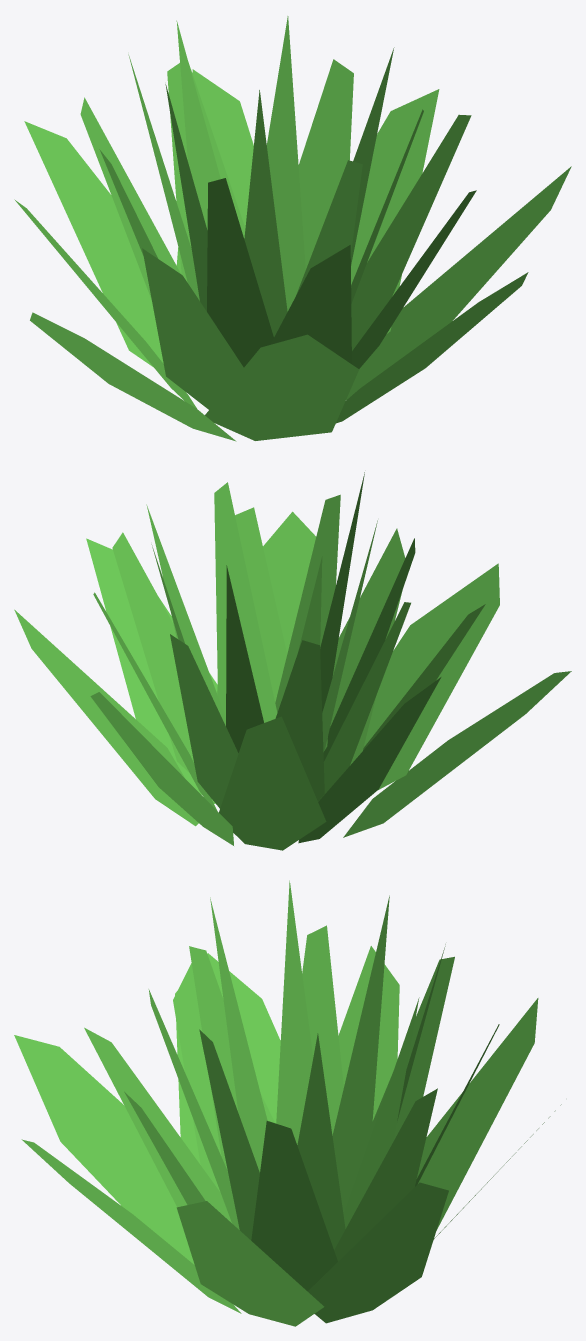
The model's file is GRASS PT2.glb.
3 views of the same model, one above another, from view 1: azimuth 30°, elevation 25°; view 2: azimuth 150°, elevation 25°; view 3: azimuth 270°, elevation 25° (orthographic). The views are drawn at different scales.
Parts seen in each view (by area): view 1: grass; view 2: grass; view 3: grass.
Boxes of the visible parts, left/top/right/bottom form: grass: left=14, top=16, right=571, bottom=441; grass: left=14, top=472, right=571, bottom=850; grass: left=14, top=880, right=561, bottom=1326.
Size of the model in its own units: 2.28 by 1.5 by 2.04.
